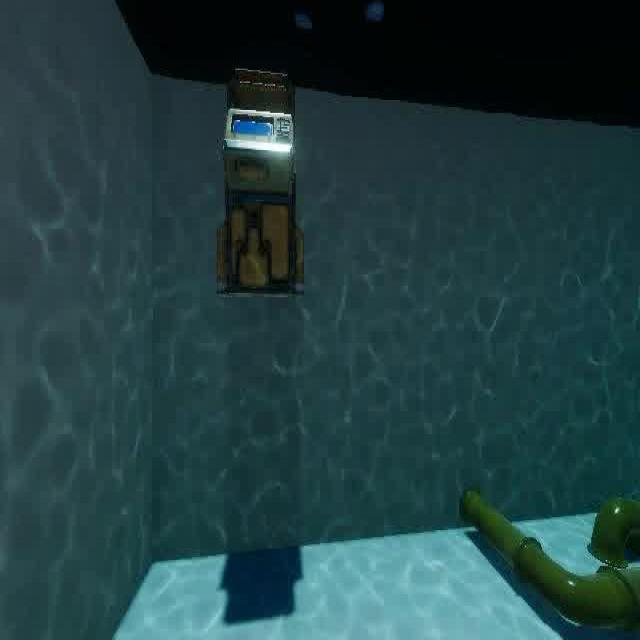Control Panel: (215, 56, 311, 308)
Pipe: (442, 453, 640, 640)
